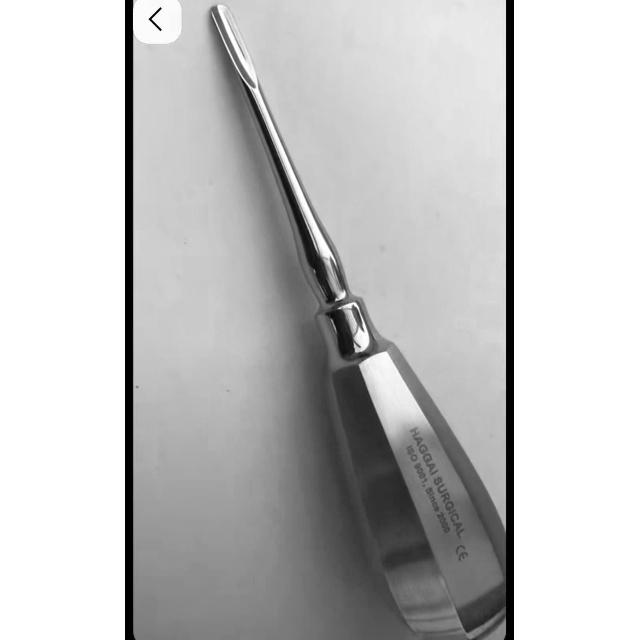botador: (206, 4, 509, 639)
